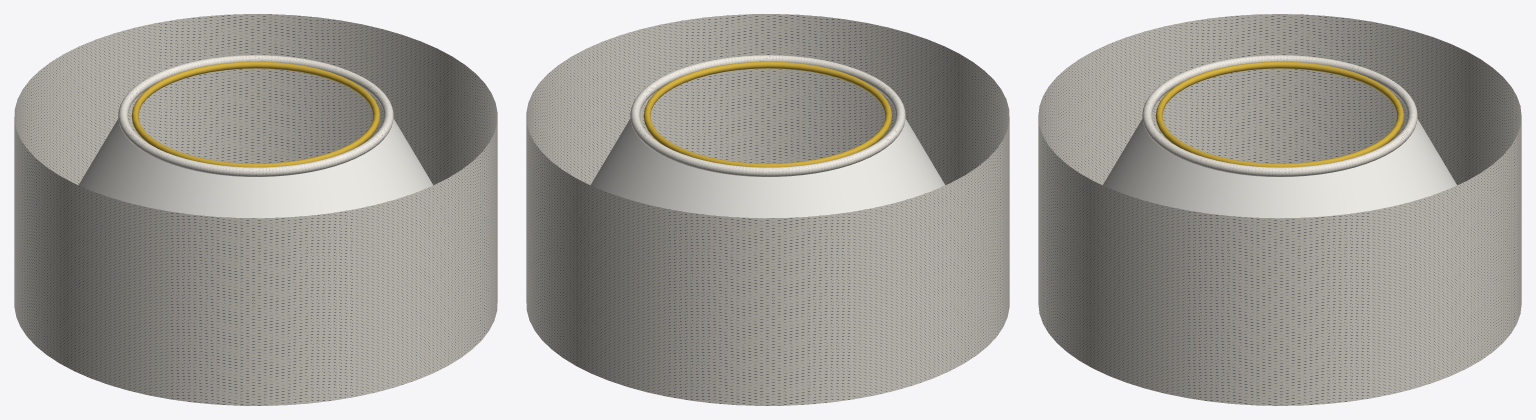
The model's file is gen-1793017784914-imimze.glb.
3 views of the same model, side by side, from view 1: azimuth 30°, elevation 25°; view 2: azimuth 150°, elevation 25°; view 3: azimuth 270°, elevation 25° (orthographic).
Visible parts, largest first — view 1: lampshade_body, inner_liner, top_rim, top_ring_frame; view 2: lampshade_body, inner_liner, top_rim, top_ring_frame; view 3: lampshade_body, inner_liner, top_rim, top_ring_frame.
Boxes of the visible parts, x1=… form: lampshade_body: x1=14, y1=14, x2=497, y2=405; inner_liner: x1=79, y1=119, x2=433, y2=218; top_rim: x1=118, y1=55, x2=393, y2=176; top_ring_frame: x1=131, y1=61, x2=380, y2=167; lampshade_body: x1=526, y1=14, x2=1009, y2=405; inner_liner: x1=590, y1=119, x2=944, y2=218; top_rim: x1=630, y1=55, x2=905, y2=176; top_ring_frame: x1=643, y1=61, x2=892, y2=167; lampshade_body: x1=1038, y1=14, x2=1521, y2=405; inner_liner: x1=1103, y1=118, x2=1456, y2=218; top_rim: x1=1142, y1=55, x2=1417, y2=176; top_ring_frame: x1=1155, y1=61, x2=1404, y2=167.
Bounding box in the file's own units: 0.35 × 0.156 × 0.35.
4 materials, 1 textured.
